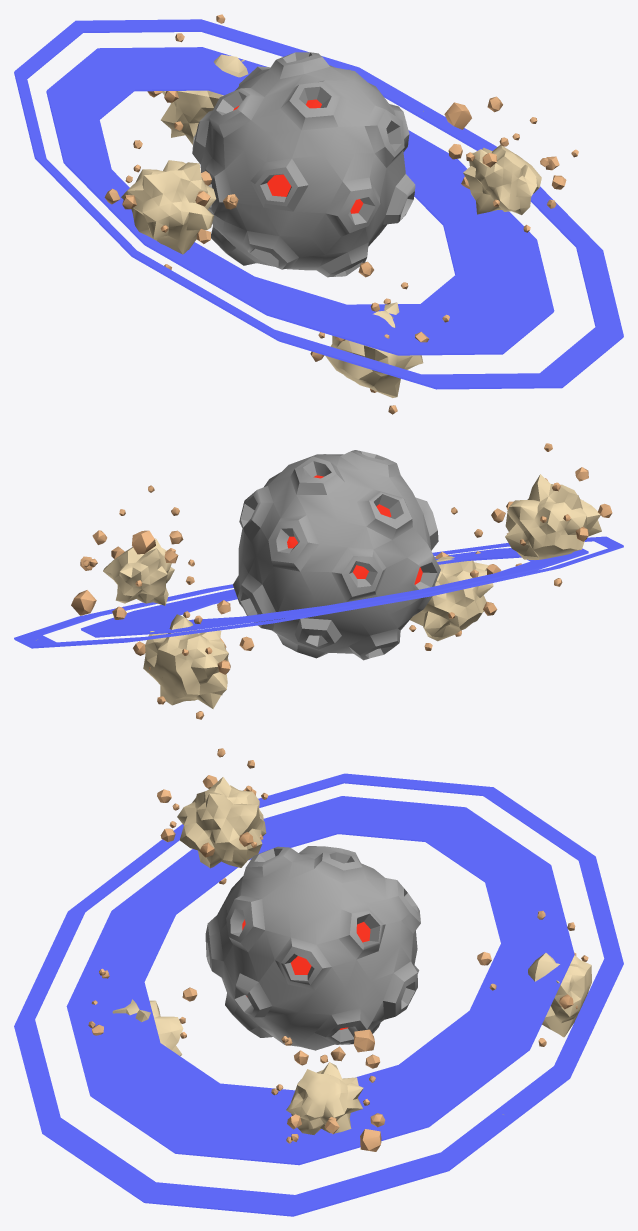
File: planet_zuo.fbx
The picture shows the model from 3 angles, top to bottom: view 1: azimuth 30°, elevation 25°; view 2: azimuth 150°, elevation 25°; view 3: azimuth 270°, elevation 25°; orthographic projection. The views are drawn at different scales.
Visible parts, largest first — view 1: Asteroid Large 2; view 2: Asteroid Large 2; view 3: Asteroid Large 2.
Part boxes in pixels (x1,y1,x2,y2): Asteroid Large 2: (14, 14, 623, 414); Asteroid Large 2: (14, 443, 623, 719); Asteroid Large 2: (14, 748, 623, 1216).
Size of the model in its own units: 181 by 91.87 by 188.
